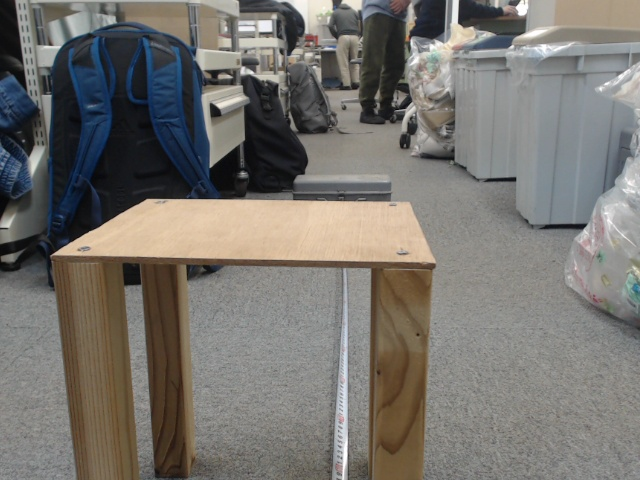desk: (268, 144, 494, 395)
